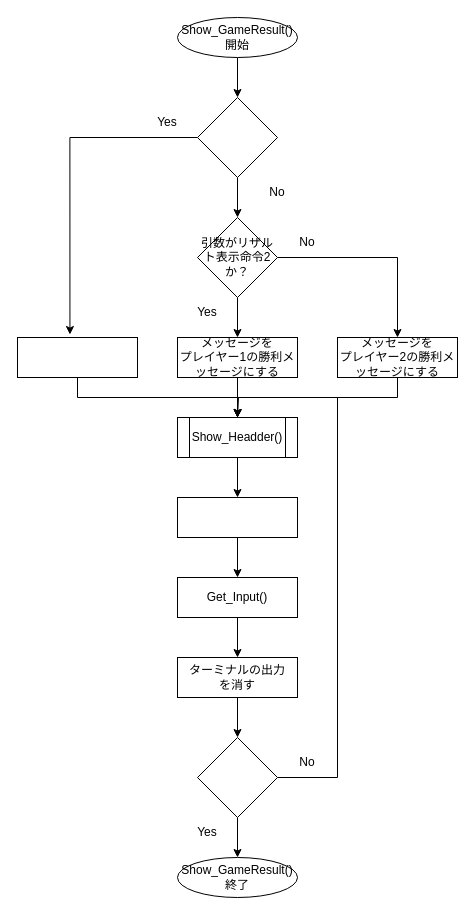
Image size: 475x915. Some labels were removed from this diagram. Here are the shapes that lost their labels. From the top down, the centre of each, then its label:
(x=237, y=137): 引数がリザルト表示命令1か？
(x=77, y=357): メッセージを 引き分けメッセージにする
(x=237, y=517): 終了時の盤面と メッセージを表示
(x=237, y=777): Get_Input()の返り値がEnterか？
